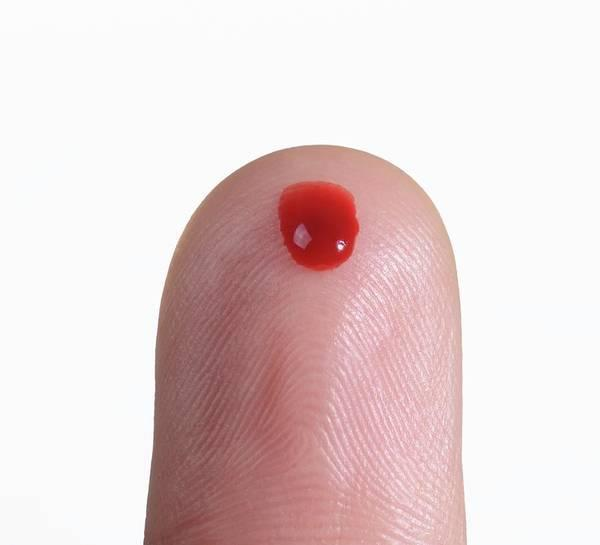Fire: (279, 182, 360, 270)
